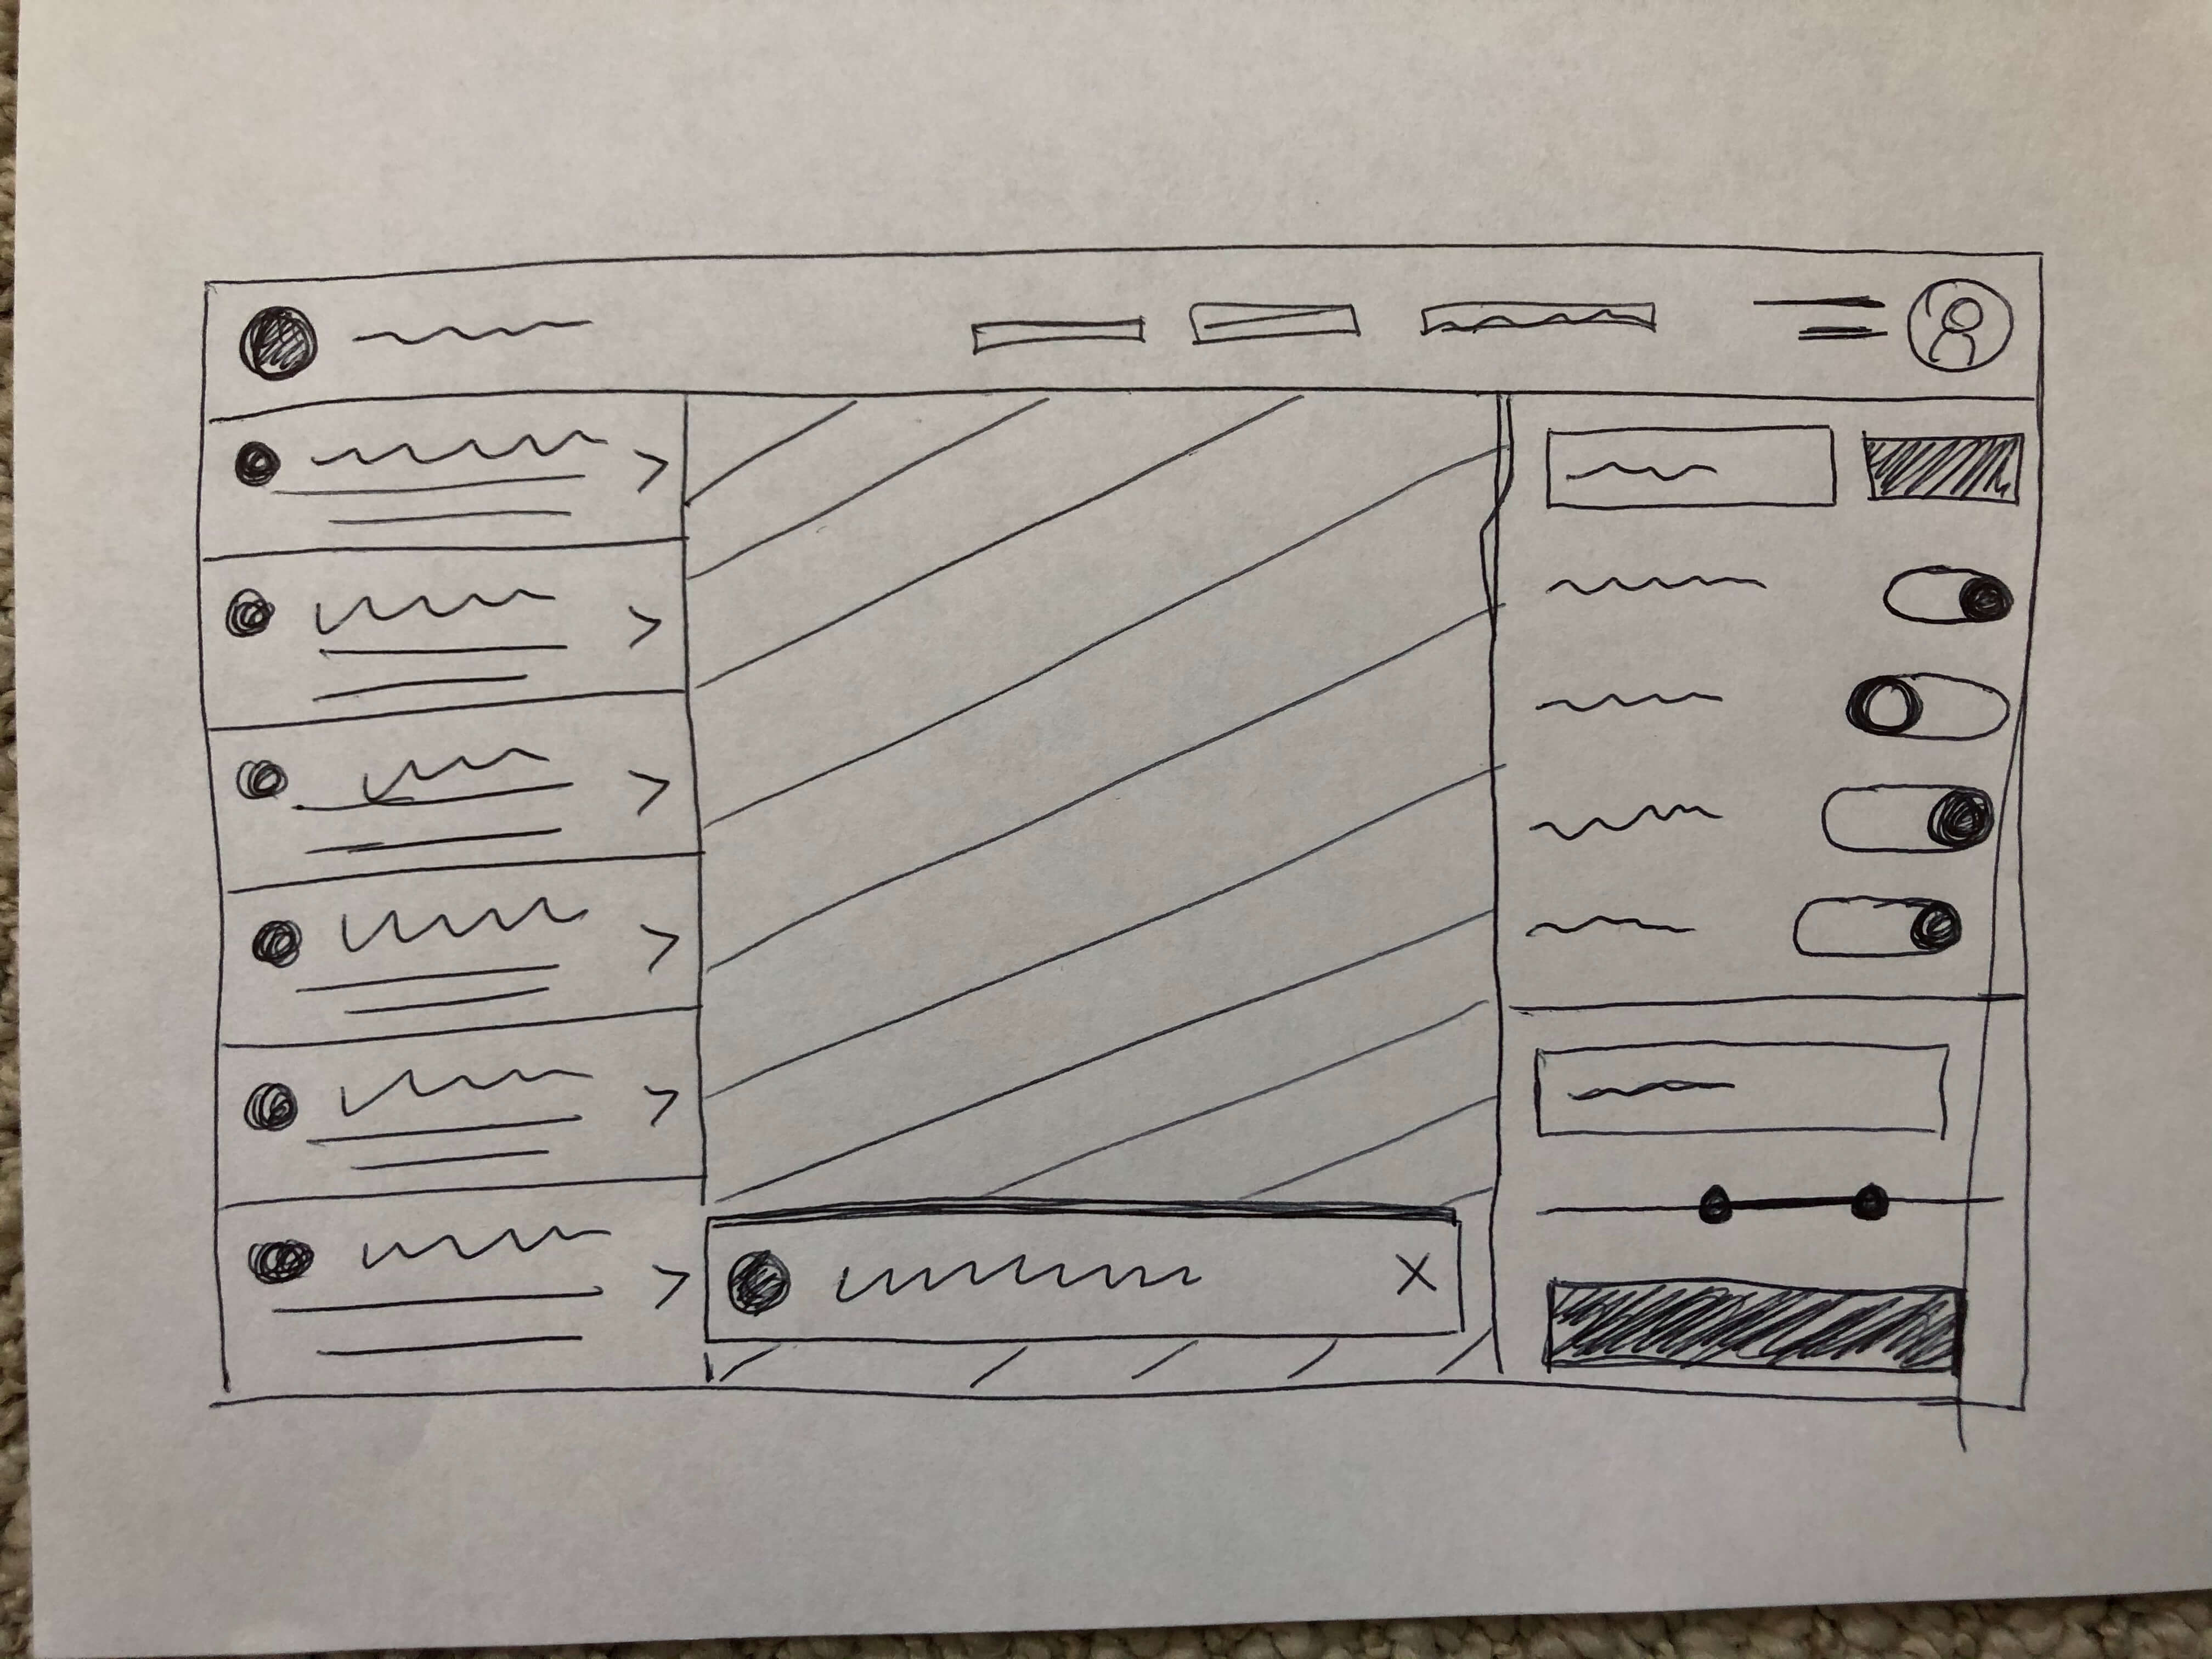avatar: (1738, 260, 2026, 387)
button: (1534, 1262, 1966, 1385), (1853, 418, 2026, 518)
input: (1527, 1033, 1954, 1157), (1540, 410, 1843, 521)
map: (676, 382, 1512, 1204)
slider: (1527, 1176, 1968, 1229)
switch: (1815, 777, 2000, 863), (1841, 660, 2013, 751), (1785, 887, 1973, 967), (1876, 552, 2020, 638)
